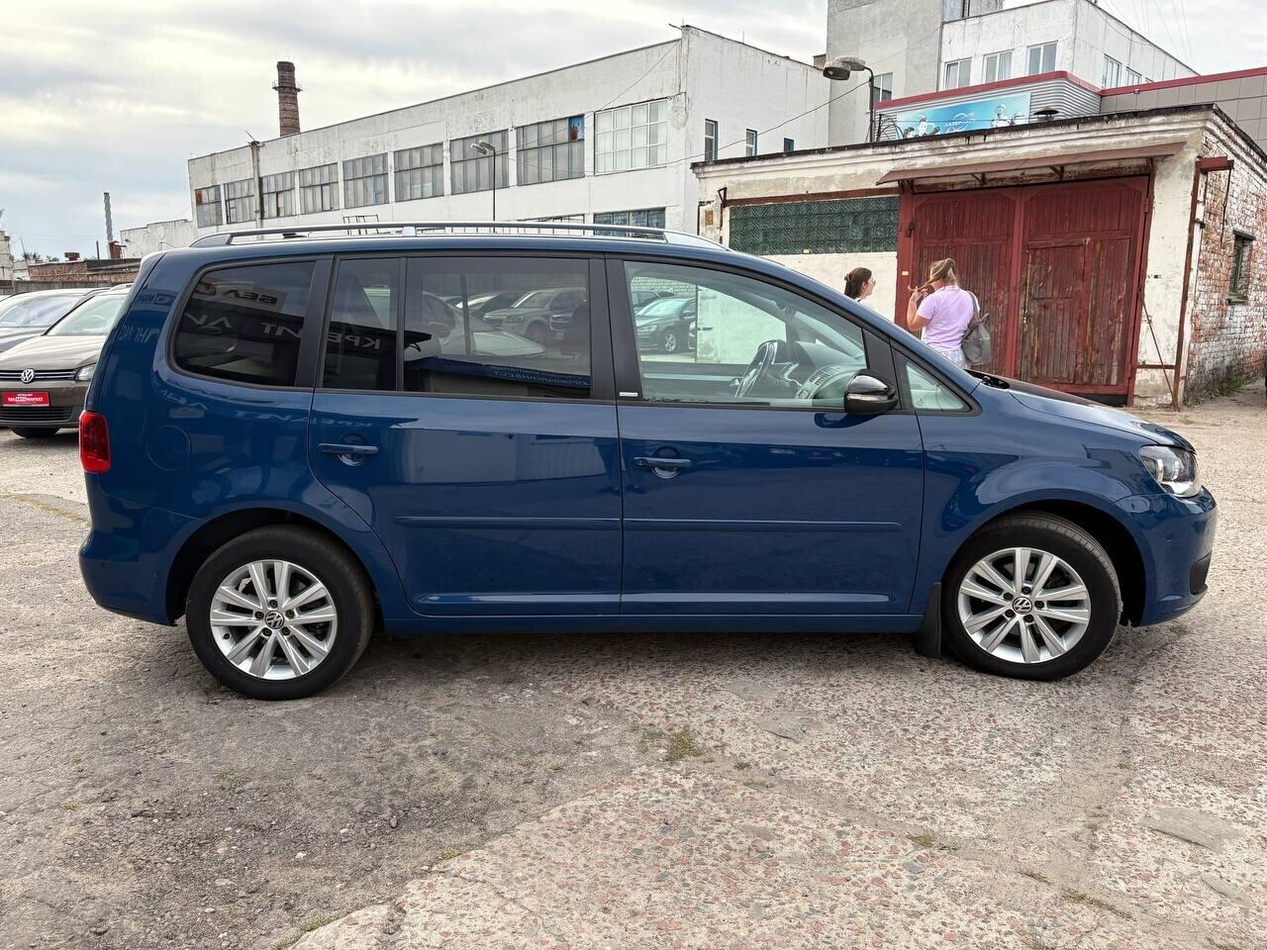Touran_2010-2015: (74, 230, 1216, 698)
